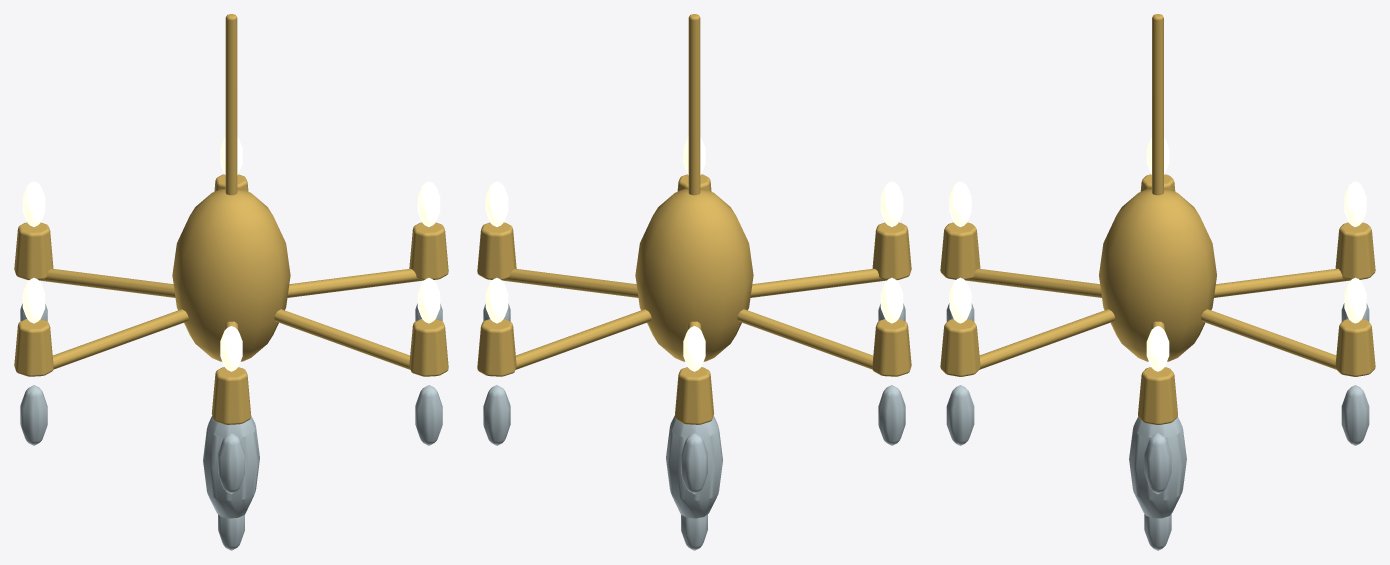
The model's file is SM_PRP_Lustre.fbx.
3 views of the same model, side by side, from view 1: azimuth 30°, elevation 25°; view 2: azimuth 150°, elevation 25°; view 3: azimuth 270°, elevation 25° (orthographic).
Parts seen in each view (by area): view 1: SM_PRP_Lustre; view 2: SM_PRP_Lustre; view 3: SM_PRP_Lustre.
Part boxes in pixels (box(x1,y1,x2,y2)): SM_PRP_Lustre: box(14, 14, 448, 550); SM_PRP_Lustre: box(477, 14, 911, 550); SM_PRP_Lustre: box(940, 14, 1375, 550).
Bounding box in the file's own units: 0.5876 × 0.7 × 0.5153.
